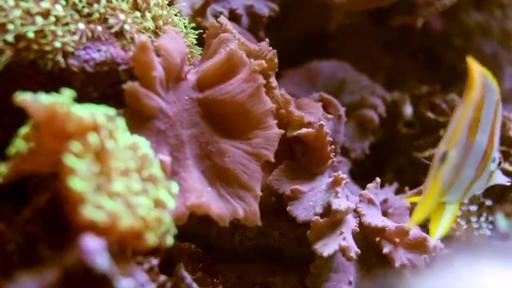Fish: (407, 56, 510, 239)
